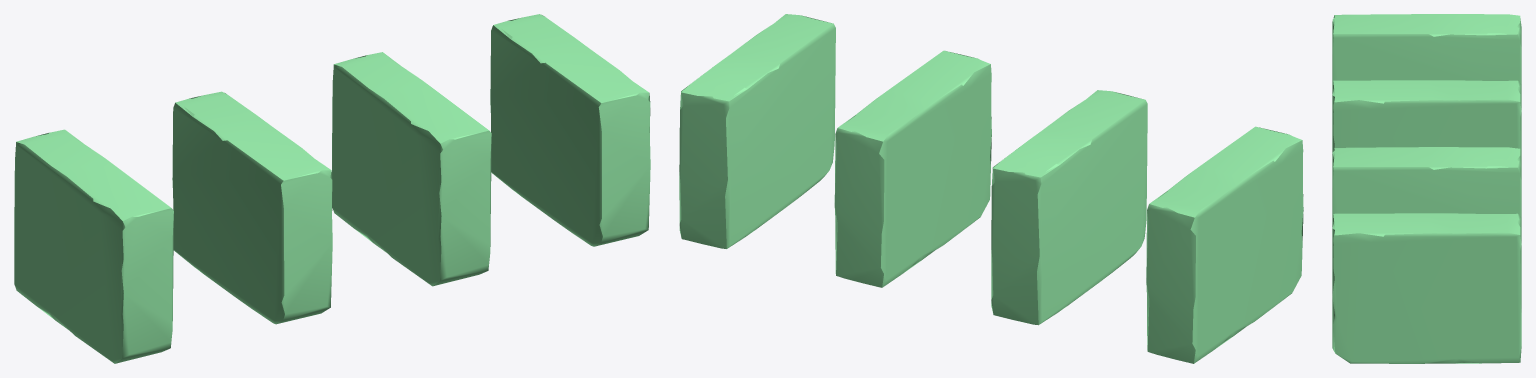
File: stone_element_37e_line_x4.fbx
3 views of the same model, side by side, from view 1: azimuth 30°, elevation 25°; view 2: azimuth 150°, elevation 25°; view 3: azimuth 270°, elevation 25° (orthographic). The views are drawn at different scales.
Parts seen in each view (by area): view 1: stone_element_37e_line_x4_LOD0; view 2: stone_element_37e_line_x4_LOD0; view 3: stone_element_37e_line_x4_LOD0.
Part boxes in pixels (box(x1,y1,x2,y2)): stone_element_37e_line_x4_LOD0: box(14, 14, 650, 363); stone_element_37e_line_x4_LOD0: box(679, 14, 1303, 363); stone_element_37e_line_x4_LOD0: box(1332, 14, 1521, 363).
Size of what is drawn, in the model's own units: 341 by 94.04 by 123.
